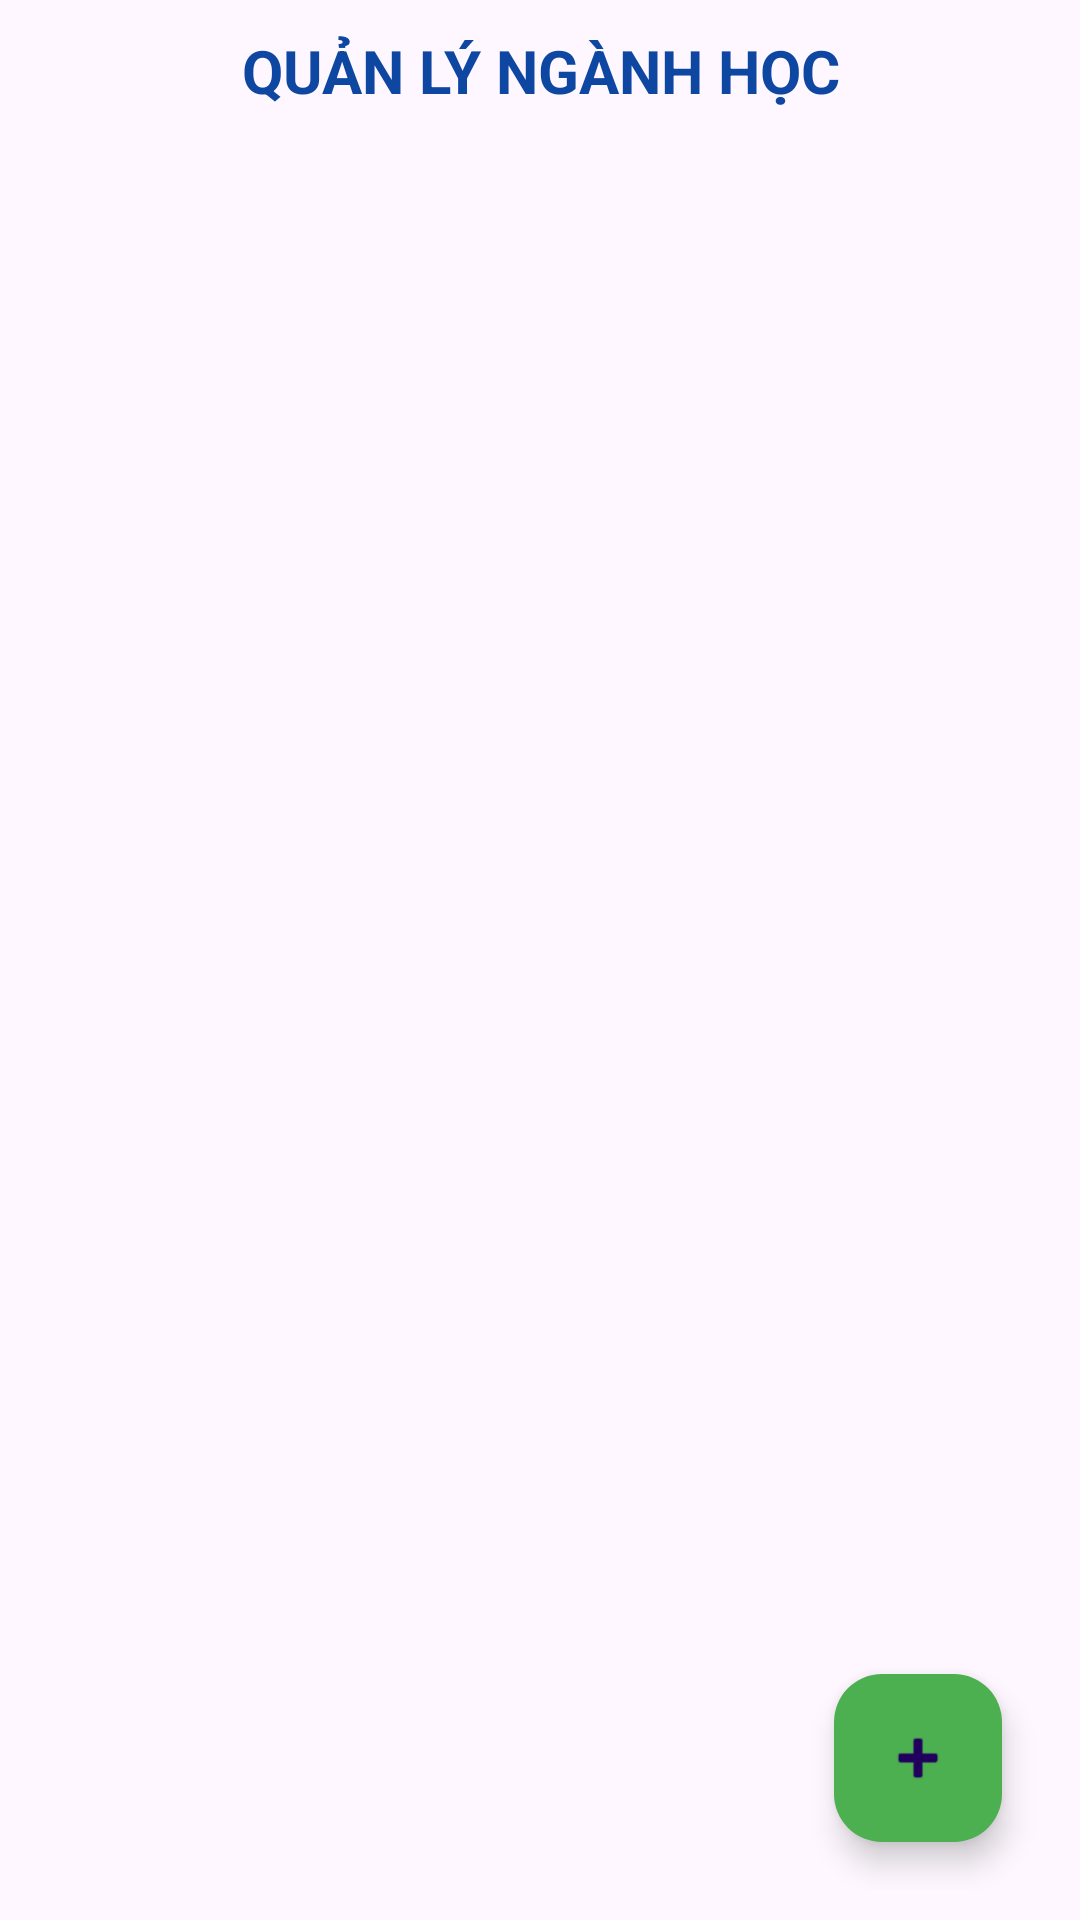

Icon click points for this 1080x1920 phone screenshot, format point (x, y):
add: point (918, 1758)
